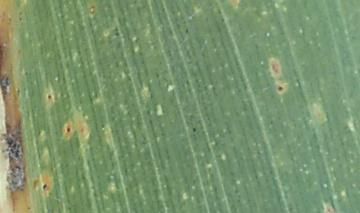tarspot: (276, 85, 284, 93), (190, 124, 197, 133), (46, 92, 53, 100), (41, 182, 47, 190), (65, 127, 72, 133)
